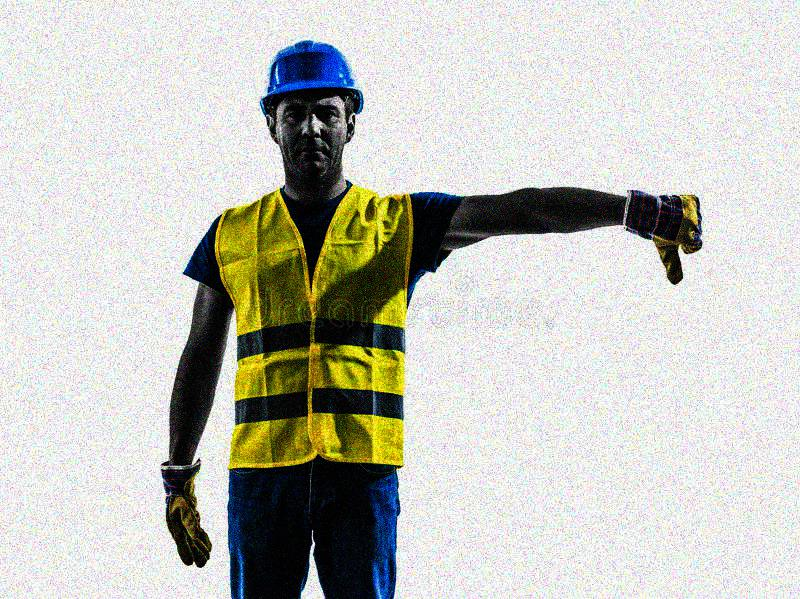helmet: (259, 40, 369, 174)
